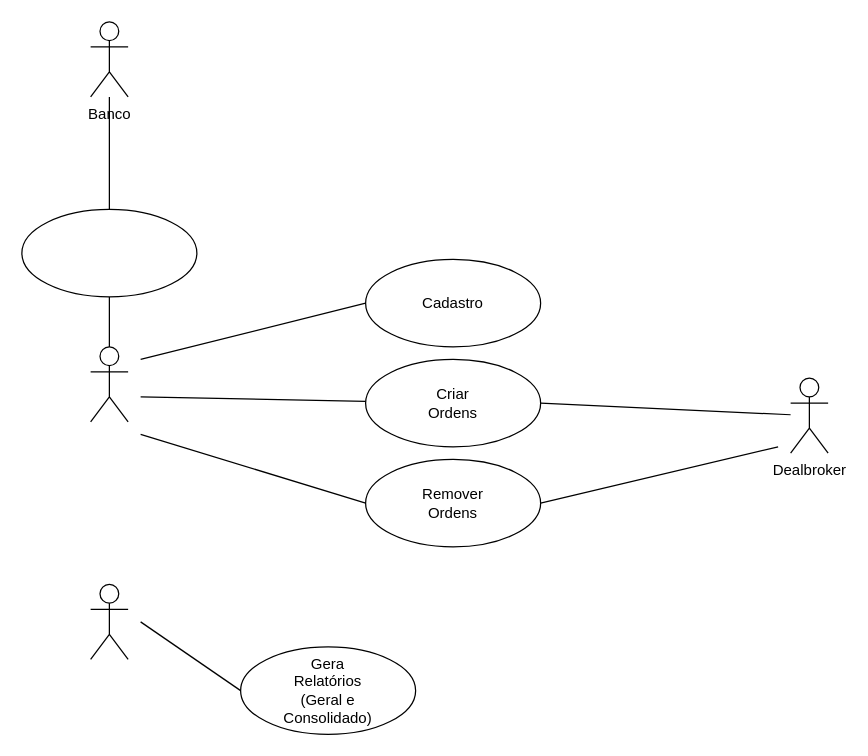
This 868x756 diagram has some shape labels left out. The centre of each missing label's shape, as x and y in pixels:
"Auditoria" goes at [108,621].
"Depósito" goes at [109,252].
"Investidor" goes at [108,384].
